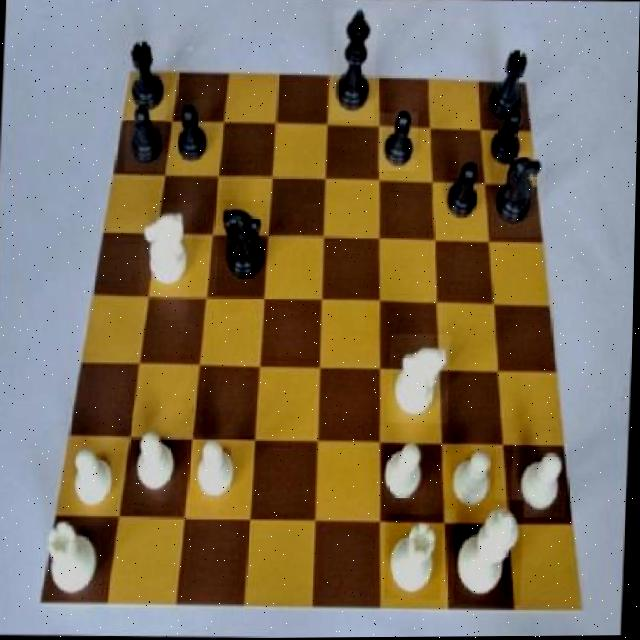black-bishop: (332, 7, 380, 121)
black-king: (218, 200, 270, 296), (491, 152, 546, 237)
black-knight: (482, 103, 535, 173), (124, 93, 167, 172), (442, 158, 490, 221), (176, 99, 213, 169), (377, 113, 418, 172)
black-queen: (482, 40, 534, 126), (124, 36, 170, 114)
white-bishop: (456, 500, 527, 606)
white-king: (390, 334, 452, 425), (139, 203, 194, 298)
white-knight: (130, 423, 185, 504), (381, 436, 434, 517), (512, 444, 570, 518), (68, 436, 118, 517), (191, 433, 243, 506), (447, 446, 499, 511)
white-queen: (387, 514, 446, 601), (44, 512, 101, 599)
